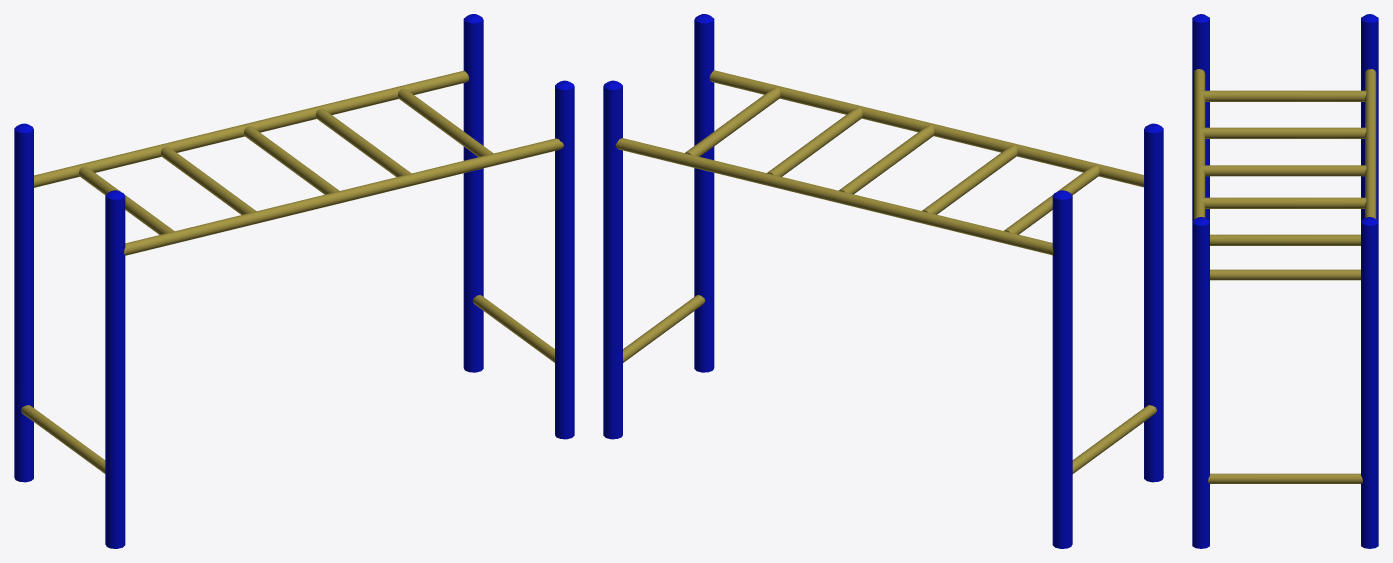
The model's file is ART-MOD-A-Castle-MonkeyBars-002.FBX.
The picture shows the model from 3 angles, left to right: view 1: azimuth 30°, elevation 25°; view 2: azimuth 150°, elevation 25°; view 3: azimuth 270°, elevation 25°; orthographic projection. The views are drawn at different scales.
Parts seen in each view (by area): view 1: Cylinder085; view 2: Cylinder085; view 3: Cylinder085.
Boxes of the visible parts, left/top/right/bottom form: Cylinder085: left=14, top=14, right=574, bottom=548; Cylinder085: left=603, top=14, right=1163, bottom=548; Cylinder085: left=1192, top=14, right=1378, bottom=548.
Bounding box in the file's own units: 199 × 143 × 74.25.
